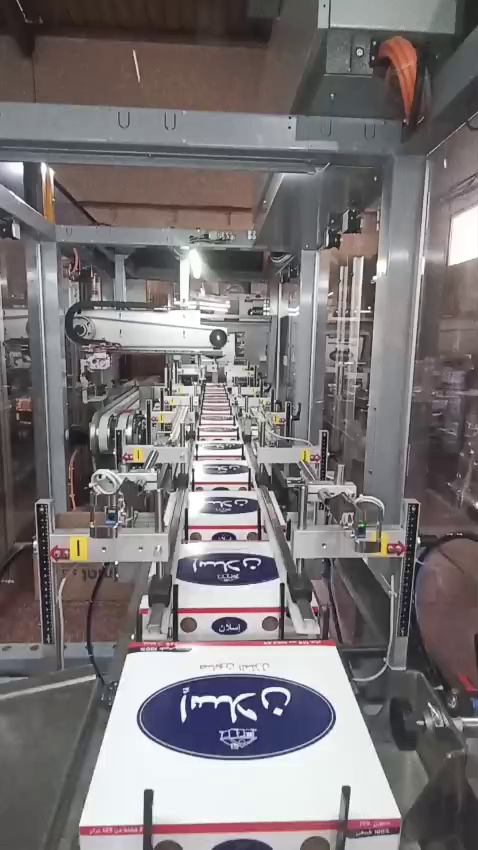savon: (64, 0, 193, 28), (143, 64, 216, 111), (240, 50, 282, 109), (0, 63, 62, 102), (330, 230, 378, 272), (137, 220, 243, 232), (64, 536, 95, 577), (105, 582, 128, 618), (368, 532, 389, 560), (57, 514, 96, 529), (43, 178, 55, 224), (249, 185, 256, 224), (176, 35, 192, 48), (131, 448, 144, 463), (300, 448, 311, 464), (208, 177, 224, 188)
